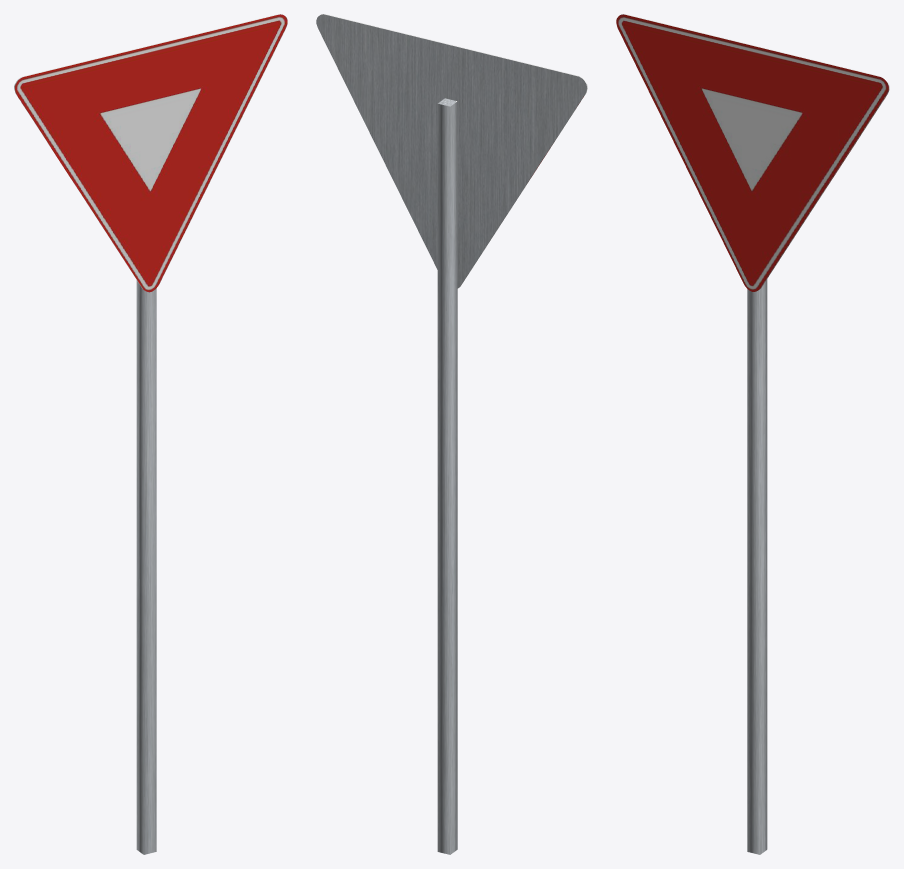
The model's file is sign-give-way.obj.
3 views of the same model, side by side, from view 1: azimuth 30°, elevation 25°; view 2: azimuth 150°, elevation 25°; view 3: azimuth 330°, elevation 25° (orthographic).
Visible parts, largest first — view 1: cedeaza_Mesh; view 2: cedeaza_Mesh; view 3: cedeaza_Mesh.
Boxes of the visible parts, x1,y1,x2,y2 form: cedeaza_Mesh: (14, 14, 287, 854); cedeaza_Mesh: (316, 14, 587, 854); cedeaza_Mesh: (616, 14, 889, 854).
Size of the model in its own units: 0.3219 by 0.9118 by 0.0172.
Materials: 1 (1 with a texture image).
